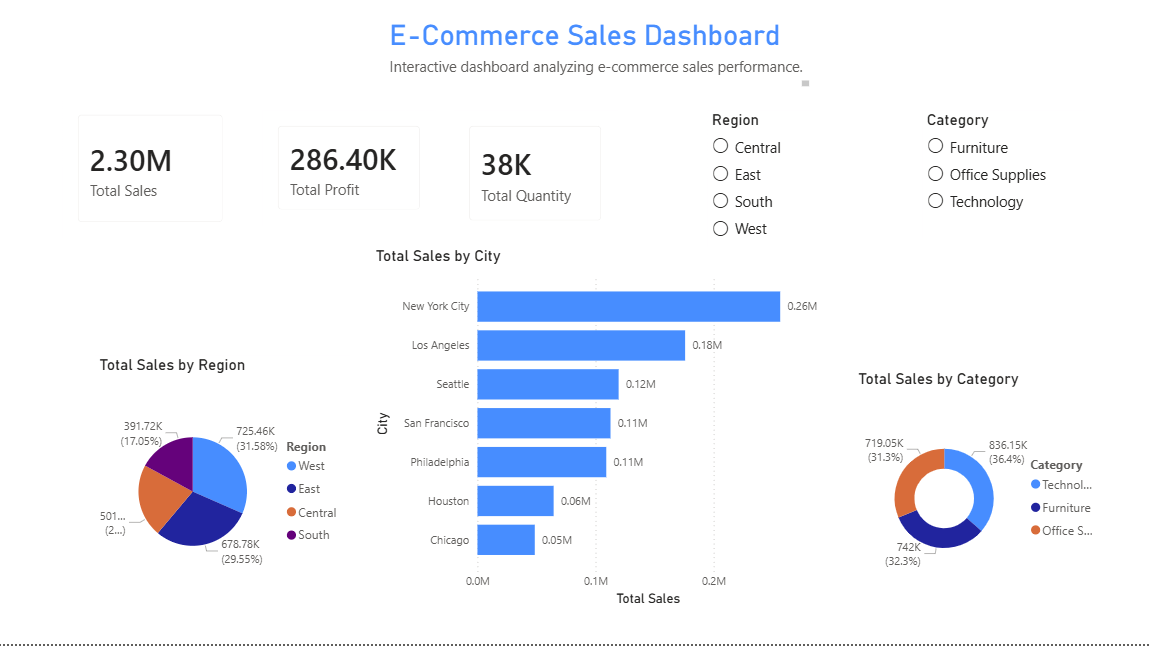

Layout of this report page (visuals, bound fields, positions):
{"tool":"powerbi","page":{"name":"Page 1","canvas":[1280,720],"ordinal":0},"visuals":[{"type":"cardVisual","title":"Total Sales","fields":{"Data":["Sum(superstore.Sales)"]},"box":[85.1,122.1,193.5,152.3],"z":0},{"type":"cardVisual","fields":{"Data":["Sum(superstore.Profit)"]},"box":[304.6,134.5,190.7,126.2],"z":1000},{"type":"cardVisual","fields":{"Data":["Sum(superstore.Quantity)"]},"box":[514.6,134.5,179.8,138.6],"z":2000},{"type":"pieChart","title":"Total Sales by Region","fields":{"Category":["superstore.Region"],"Y":["Sum(superstore.Sales)"]},"box":[120.8,403.4,279.9,279.9],"z":3000},{"type":"donutChart","title":"Total Sales by Category","fields":{"Category":["superstore.Category"],"Y":["Sum(superstore.Sales)"]},"box":[953.7,418.5,279.9,264.8],"z":4000},{"type":"barChart","title":"Total Sales by City","fields":{"Category":["superstore.City"],"Y":["Sum(superstore.Sales)"]},"box":[424,284,510.5,399.3],"z":6000},{"type":"textbox","title":"E-Commerce Sales Dashboard","box":[439.1,34.3,470.7,78.2],"z":7000},{"type":"listSlicer","fields":{"Values":["superstore.Region"]},"box":[793.1,134.5,116.6,149.6],"z":7001},{"type":"listSlicer","fields":{"Values":["superstore.Category"]},"box":[1029.2,134.5,178.4,140],"z":7002}]}

Visuals, with their boxes in screenshot pixels (x1, y1, x2, y2), scaled from the page's 1280x720 canvas onto the 1150x647 screenshot:
"Total Sales" cardVisual: detection(76, 110, 250, 247)
cardVisual - Sum(superstore.Profit): detection(274, 121, 445, 234)
cardVisual - Sum(superstore.Quantity): detection(462, 121, 624, 245)
"Total Sales by Region" pieChart: detection(109, 362, 360, 614)
"Total Sales by Category" donutChart: detection(857, 376, 1108, 614)
"Total Sales by City" barChart: detection(381, 255, 840, 614)
"E-Commerce Sales Dashboard" textbox: detection(395, 31, 817, 101)
listSlicer - superstore.Region: detection(713, 121, 817, 255)
listSlicer - superstore.Category: detection(925, 121, 1085, 247)
